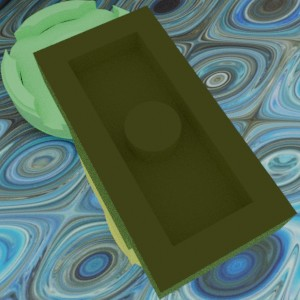lego: (32, 5, 297, 300), (1, 0, 156, 139)
